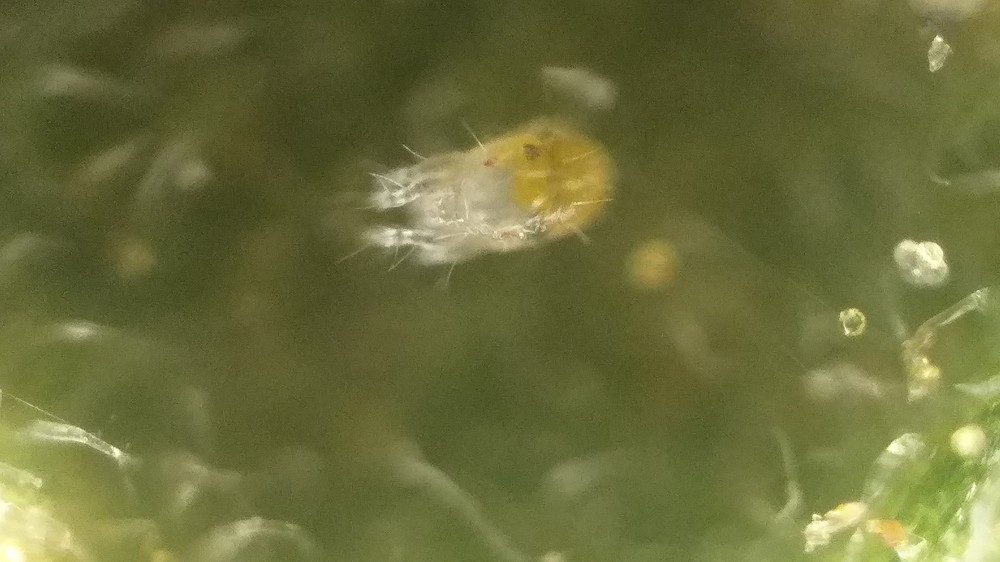Aracnido Rojo: (333, 89, 656, 318)
